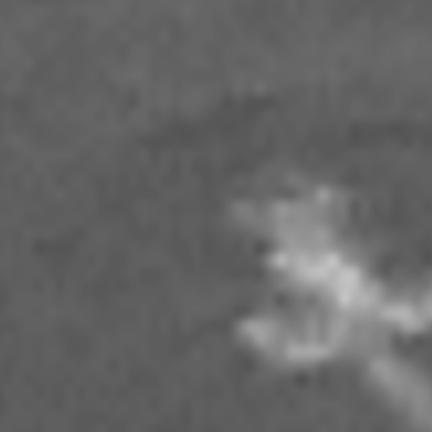flukeprints: (234, 177, 431, 429)
